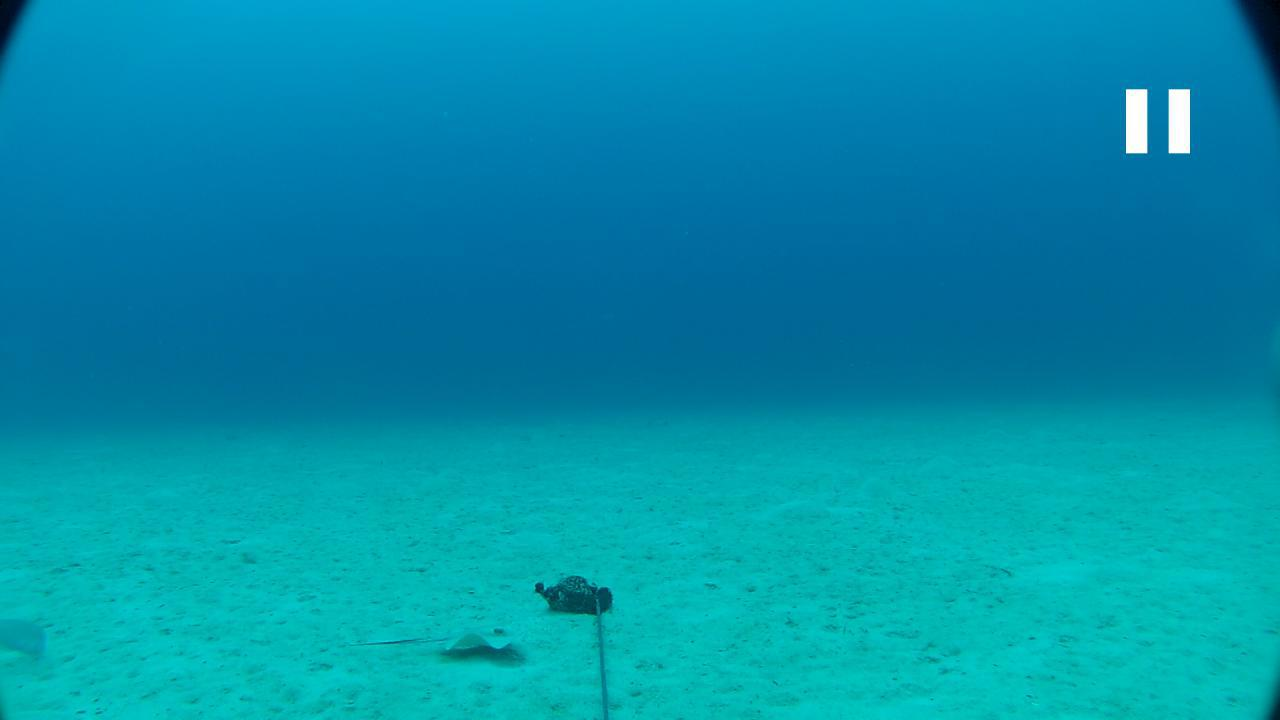dasyatis: (338, 624, 516, 653)
